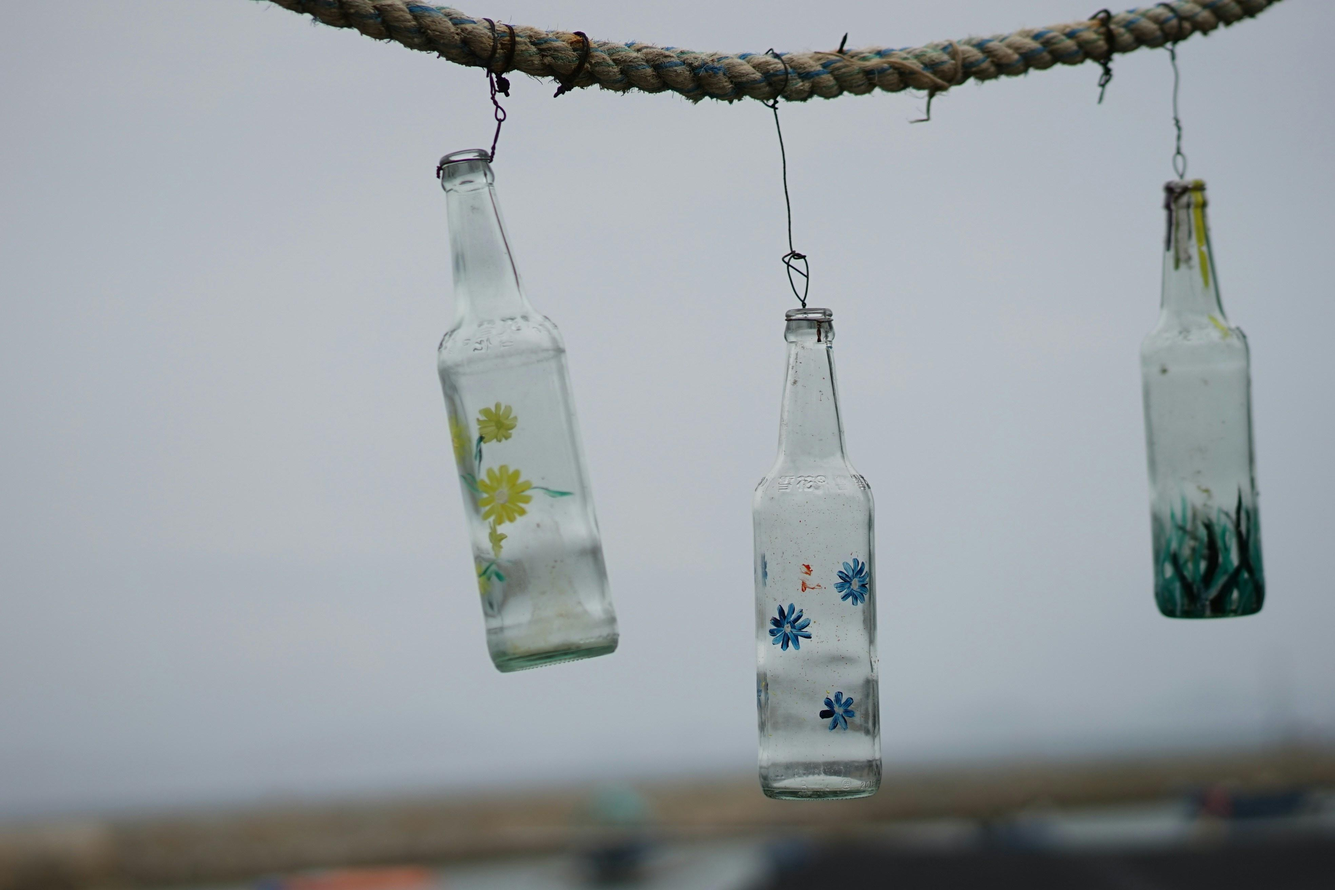Bottle-Detection: (354, 119, 673, 702), (697, 241, 941, 846), (1079, 131, 1309, 660)
